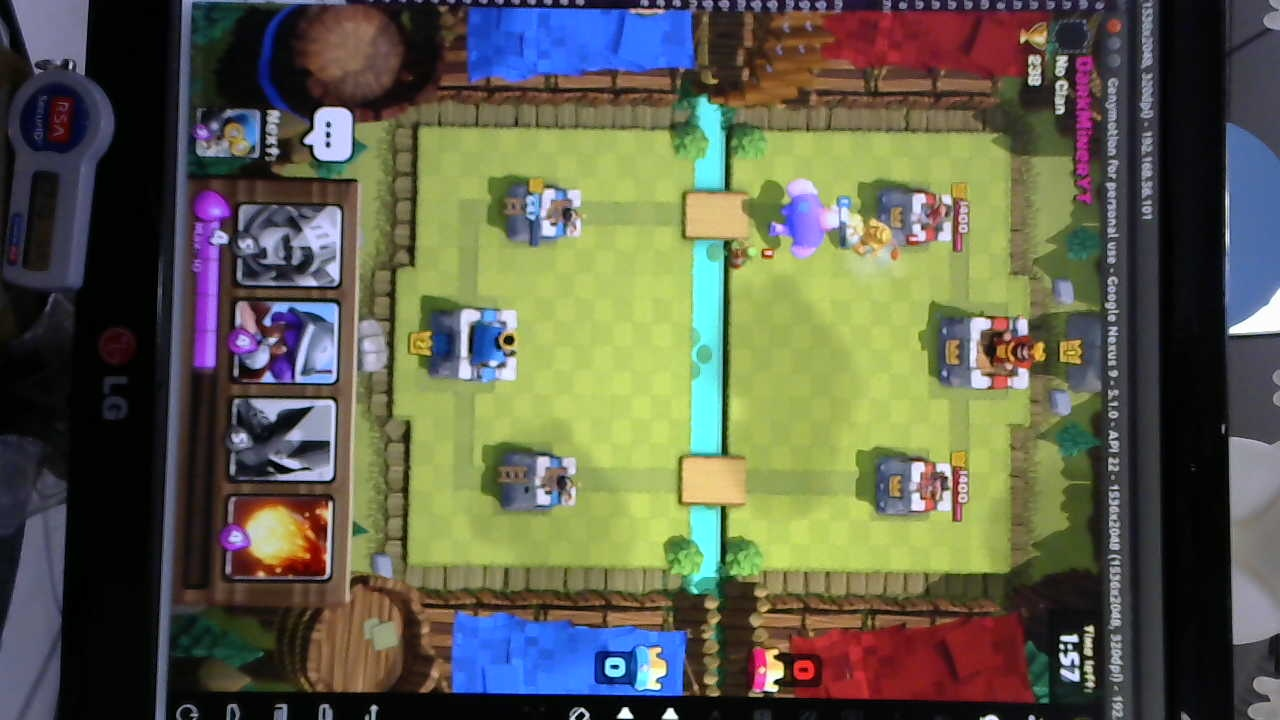arena: (500, 447, 581, 512), (500, 182, 584, 244)
earena: (874, 187, 957, 247), (875, 455, 955, 516)
eking: (934, 312, 1041, 393)
giant: (774, 177, 839, 263)
king: (428, 305, 519, 381)
prince: (840, 212, 902, 257)
speargoblin: (721, 234, 769, 271)
